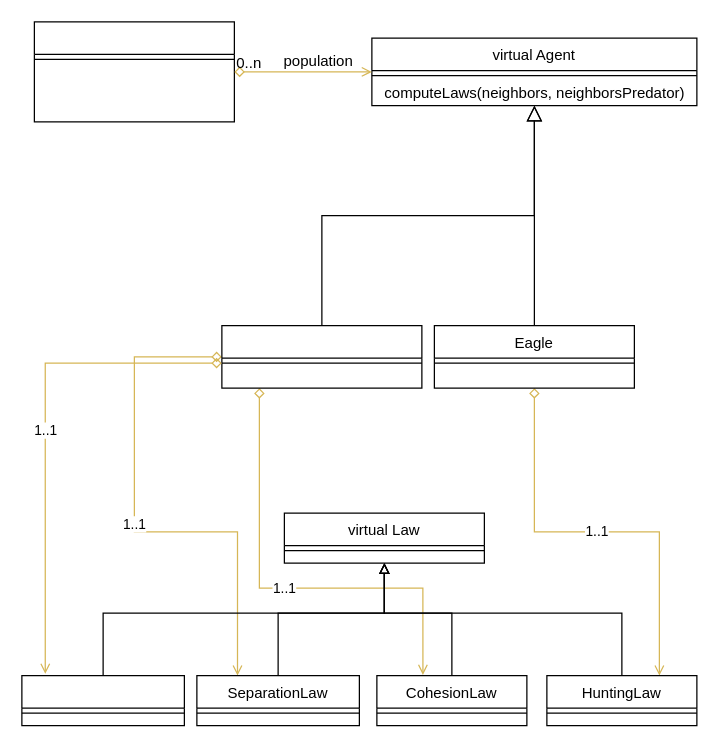
The diagram is 719 pixels wide and 748 high, and some of its shapes have lost their labels. The centre of each missing label's shape, as x and y in pixels:
"AlignmentLaw" goes at [102,700].
"Bird" goes at [321,356].
"Flock" goes at [133,71].
